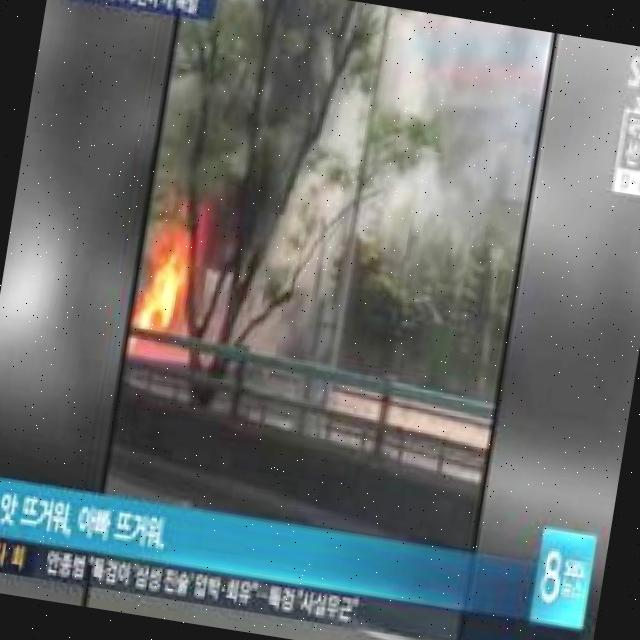fire: (120, 186, 222, 366)
